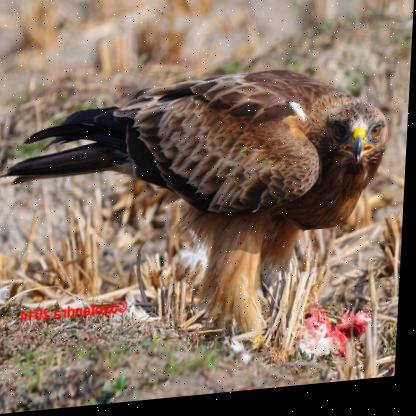Burung: (0, 67, 395, 370)
